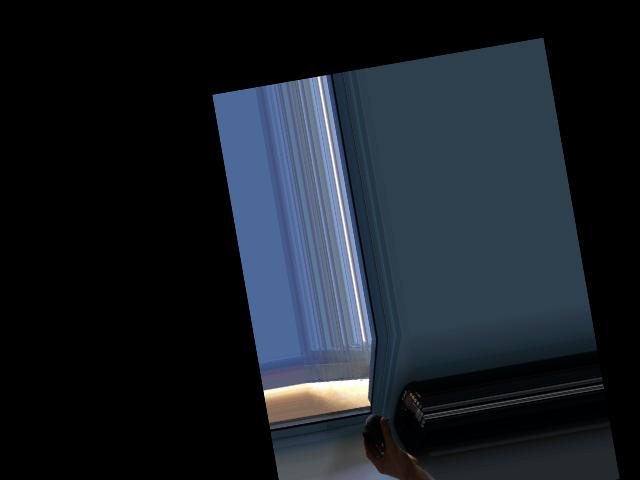beet: (359, 411, 395, 450)
